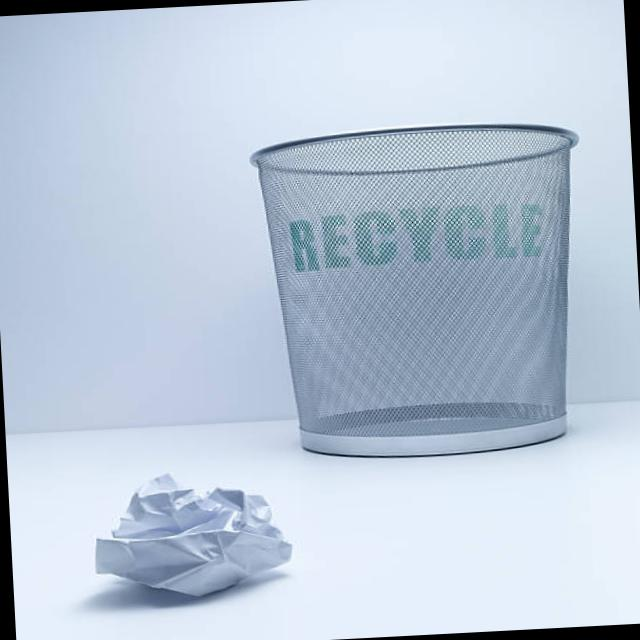electronic: (88, 465, 294, 602)
